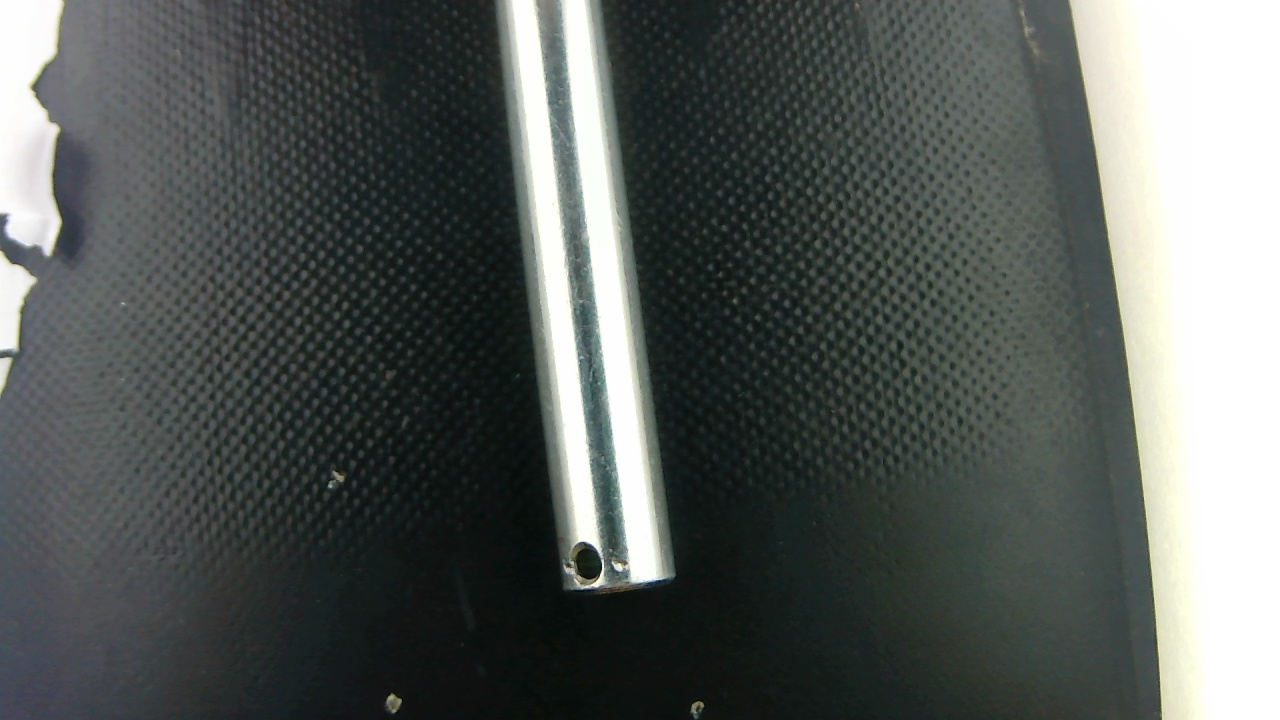drill touch_pin: (606, 546, 636, 577)
